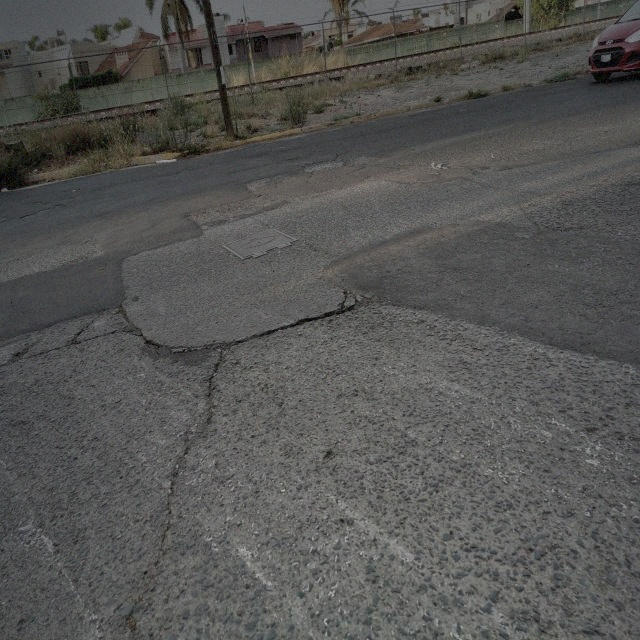pothole: (338, 285, 378, 314), (22, 206, 68, 218)
